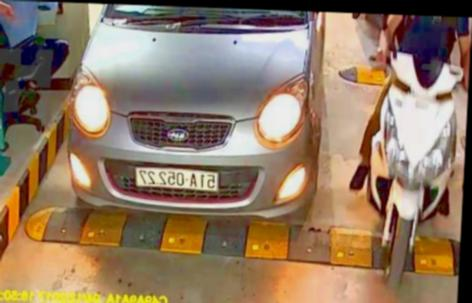License_Plate: (135, 164, 222, 196)
